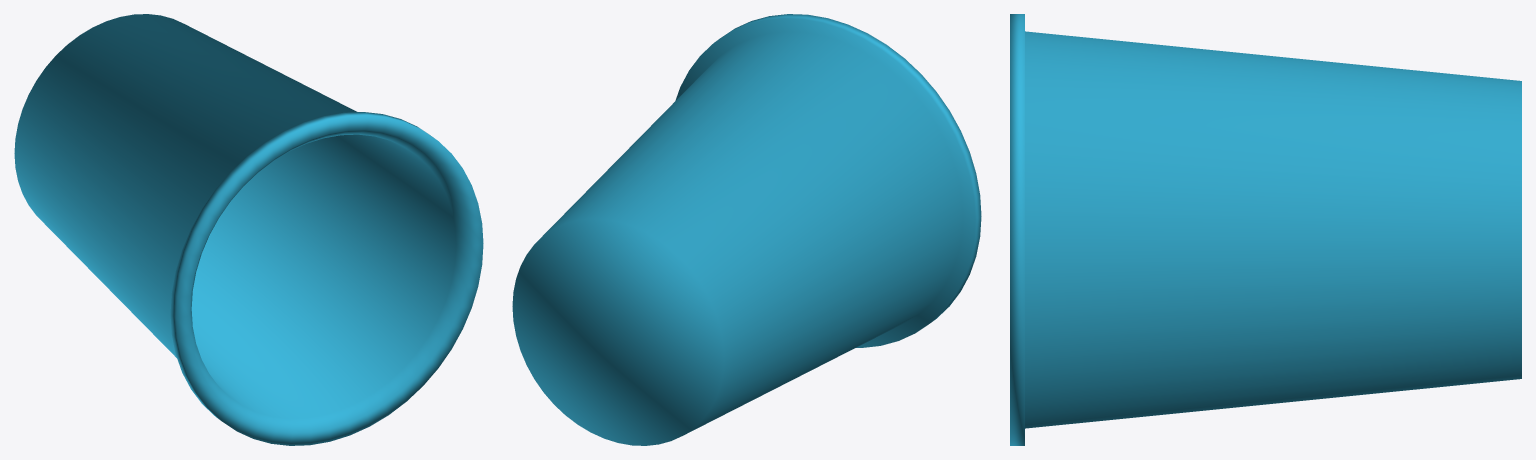
File: Cup_Cyan.obj
3 renders of one model, left to right at view 1: azimuth 30°, elevation 25°; view 2: azimuth 150°, elevation 25°; view 3: azimuth 270°, elevation 25°, orthographic. The views are drawn at different scales.
Parts seen in each view (by area): view 1: Cup_Cyan; view 2: Cup_Cyan; view 3: Cup_Cyan.
Part boxes in pixels (x1,y1,x2,y2): Cup_Cyan: (14, 14, 483, 445); Cup_Cyan: (512, 14, 981, 445); Cup_Cyan: (1010, 14, 1521, 445).
Size of the model in its own units: 0.087 by 0.087 by 0.103.
